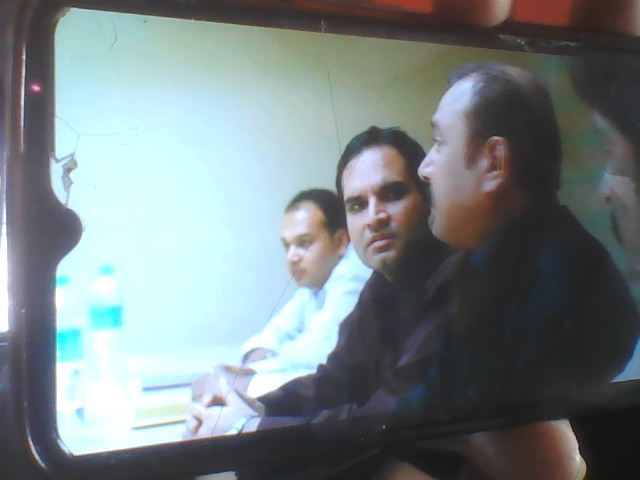fake: (338, 84, 476, 279)
